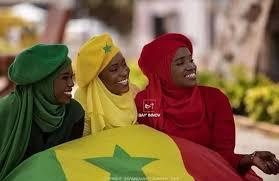No Mask: (162, 42, 215, 103), (93, 50, 137, 104), (49, 65, 84, 108)
